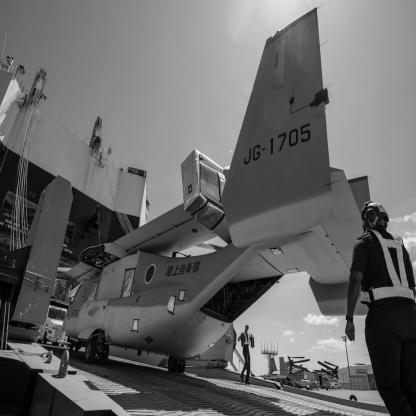V22: (63, 3, 373, 375), (271, 357, 340, 392)
